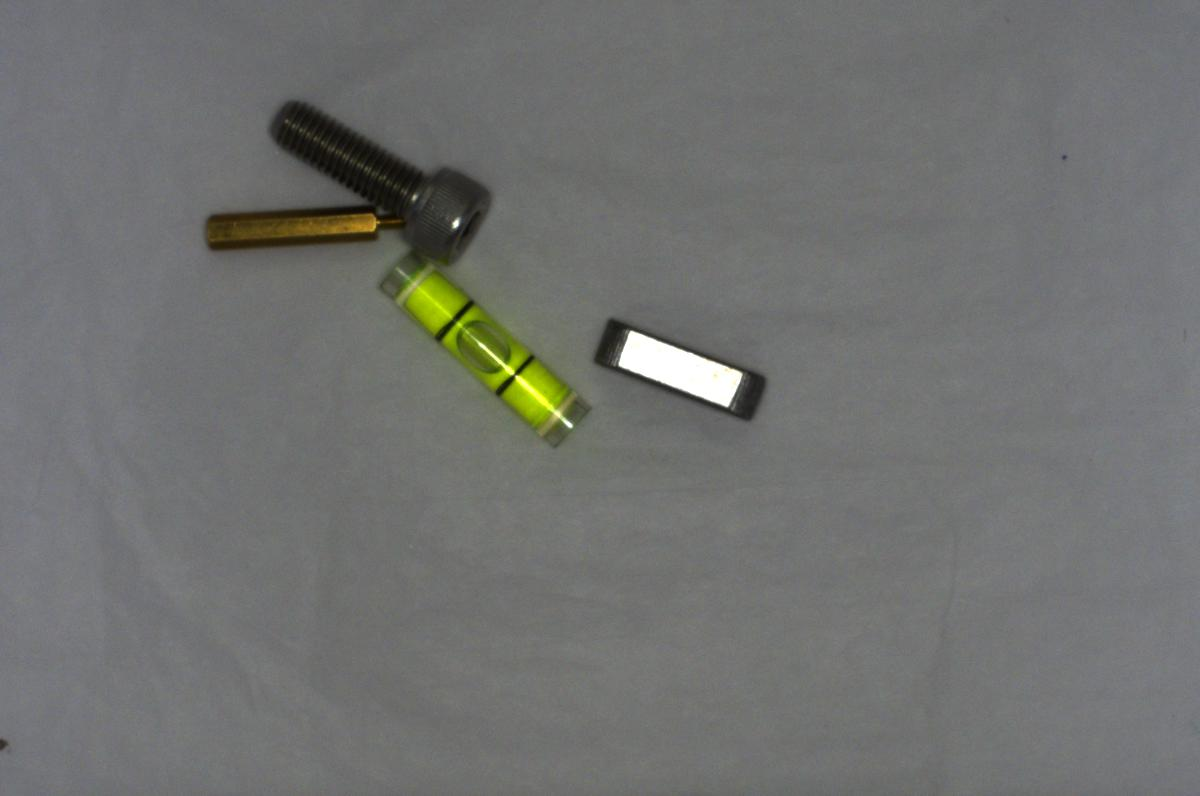Hexagon pillar: (195, 198, 402, 253)
Hexagon screw: (267, 100, 492, 262)
Horizontal bubble: (379, 252, 588, 450)
Keybar: (591, 316, 771, 421)
